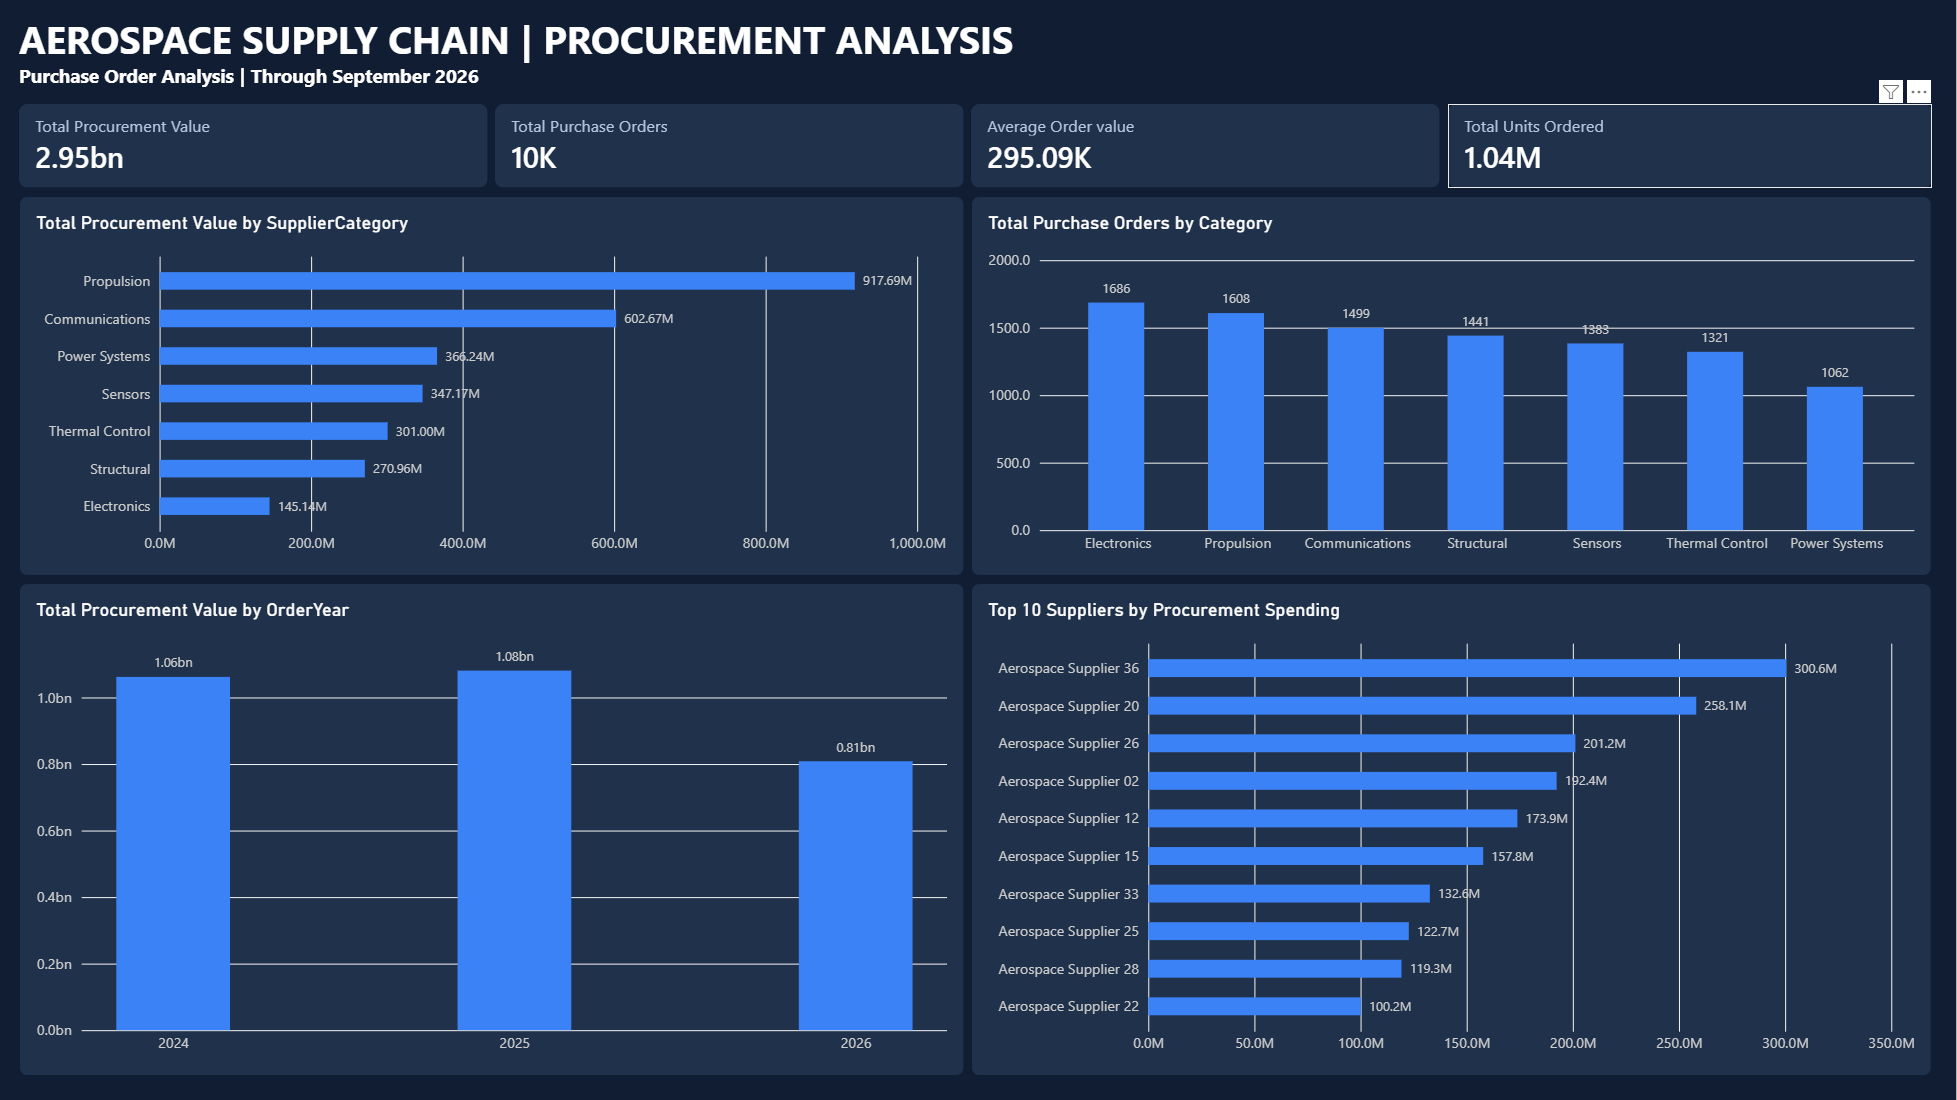

The dashboard page shown, as its layout file describes it:
{"tool":"powerbi","page":{"name":"Procurement Analysis","canvas":[1920,1080],"ordinal":1},"visuals":[{"type":"cardVisual","fields":{"Data":["vw_procurement.Average Order value"]},"box":[953.1,102.1,460.4,82.5],"z":0},{"type":"cardVisual","fields":{"Data":["vw_procurement.Total Units Ordered"]},"box":[1421.3,102.1,475.1,82.5],"z":1000},{"type":"cardVisual","fields":{"Data":["vw_procurement.Total Procurement Value"]},"box":[18.7,102.1,460.4,82.5],"z":2000},{"type":"cardVisual","fields":{"Data":["vw_procurement.Total Purchase Orders"]},"box":[485.9,102.1,460.4,82.5],"z":3000},{"type":"clusteredBarChart","title":"Top 10 Suppliers by Procurement Spending","fields":{"Category":["vw_supplier_performance.SupplierName"],"Y":["vw_procurement.Total Procurement Value"]},"box":[953.1,572.3,943.3,483.9],"z":4000},{"type":"clusteredColumnChart","fields":{"Category":["vw_procurement.Category"],"Y":["vw_procurement.Total Purchase Orders"]},"box":[953.1,192.4,943.3,373],"z":5000},{"type":"clusteredColumnChart","fields":{"Category":["vw_procurement.OrderYear"],"Y":["vw_procurement.Total Procurement Value"]},"box":[18.7,572.3,927.6,483.9],"z":6000},{"type":"clusteredBarChart","fields":{"Category":["vw_supplier_performance.SupplierCategory"],"Y":["vw_procurement.Total Procurement Value"]},"box":[18.7,192.4,927.6,373],"z":7000},{"type":"textbox","box":[18.7,12.8,985.5,89.3],"z":8000}]}

Visuals, with their boxes in screenshot pixels (x1, y1, x2, y2), scaled from the page's 1920x1080 canvas onto the 1957x1100 screenshot:
cardVisual - vw_procurement.Average Order value: {"x1": 971, "y1": 104, "x2": 1441, "y2": 188}
cardVisual - vw_procurement.Total Units Ordered: {"x1": 1449, "y1": 104, "x2": 1933, "y2": 188}
cardVisual - vw_procurement.Total Procurement Value: {"x1": 19, "y1": 104, "x2": 488, "y2": 188}
cardVisual - vw_procurement.Total Purchase Orders: {"x1": 495, "y1": 104, "x2": 965, "y2": 188}
"Top 10 Suppliers by Procurement Spending" clusteredBarChart: {"x1": 971, "y1": 583, "x2": 1933, "y2": 1076}
clusteredColumnChart - vw_procurement.Category x vw_procurement.Total Purchase Orders: {"x1": 971, "y1": 196, "x2": 1933, "y2": 576}
clusteredColumnChart - vw_procurement.OrderYear x vw_procurement.Total Procurement Value: {"x1": 19, "y1": 583, "x2": 965, "y2": 1076}
clusteredBarChart - vw_supplier_performance.SupplierCategory x vw_procurement.Total Procurement Value: {"x1": 19, "y1": 196, "x2": 965, "y2": 576}
textbox: {"x1": 19, "y1": 13, "x2": 1024, "y2": 104}
